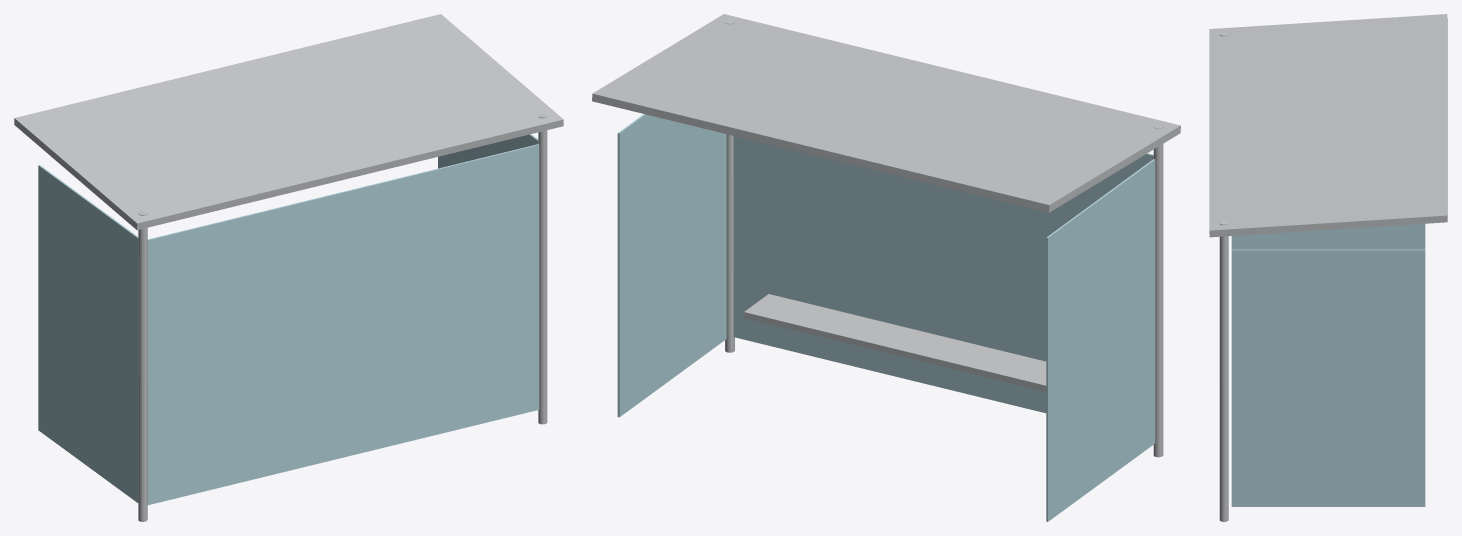
Rendered from airport.landside.smoking_shelter.glb.
3 views of the same model, side by side, from view 1: azimuth 30°, elevation 25°; view 2: azimuth 150°, elevation 25°; view 3: azimuth 270°, elevation 25° (orthographic). The views are drawn at different scales.
Visible parts, largest first — view 1: main__glass, main__aluminium; view 2: main__glass, main__aluminium; view 3: main__glass, main__aluminium.
Part boxes in pixels (x1=…): main__glass: x1=38, y1=134, x2=539, y2=505; main__aluminium: x1=14, y1=14, x2=563, y2=521; main__glass: x1=617, y1=114, x2=1155, y2=521; main__aluminium: x1=592, y1=14, x2=1180, y2=457; main__glass: x1=1231, y1=223, x2=1425, y2=506; main__aluminium: x1=1209, y1=14, x2=1447, y2=521.
Bounding box in the file's own units: 3.2 × 2.3 × 1.6.
